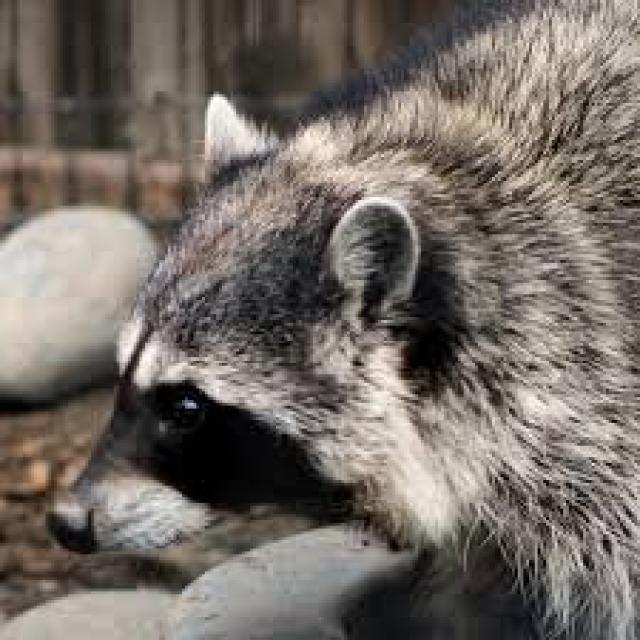Raccoon: (53, 30, 640, 640)
